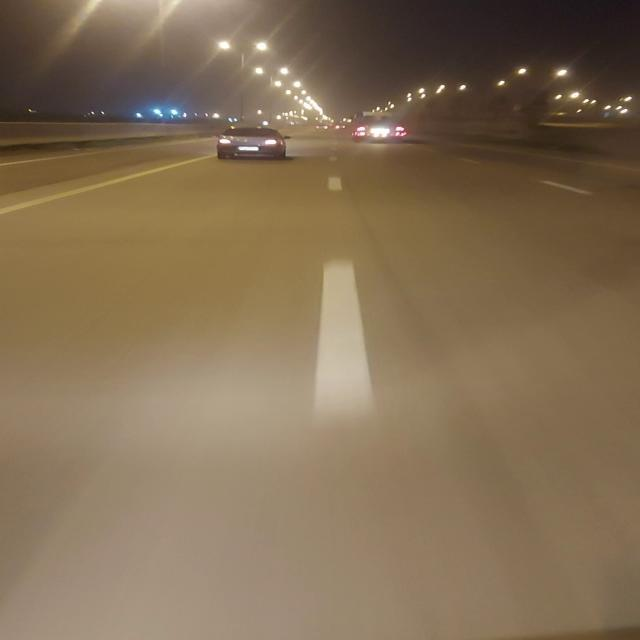Car: (205, 123, 299, 162)
